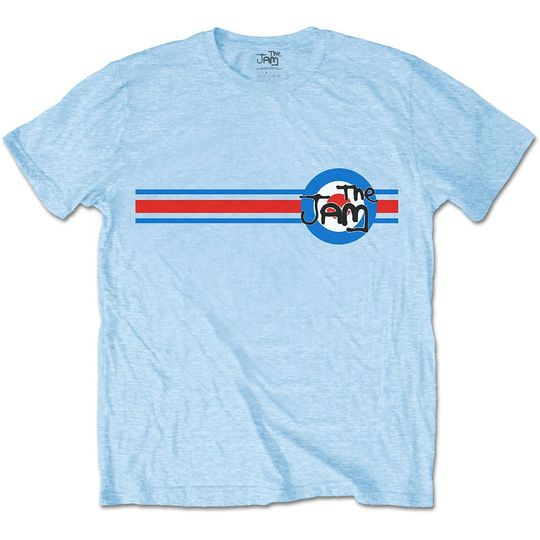design: (132, 165, 401, 246)
